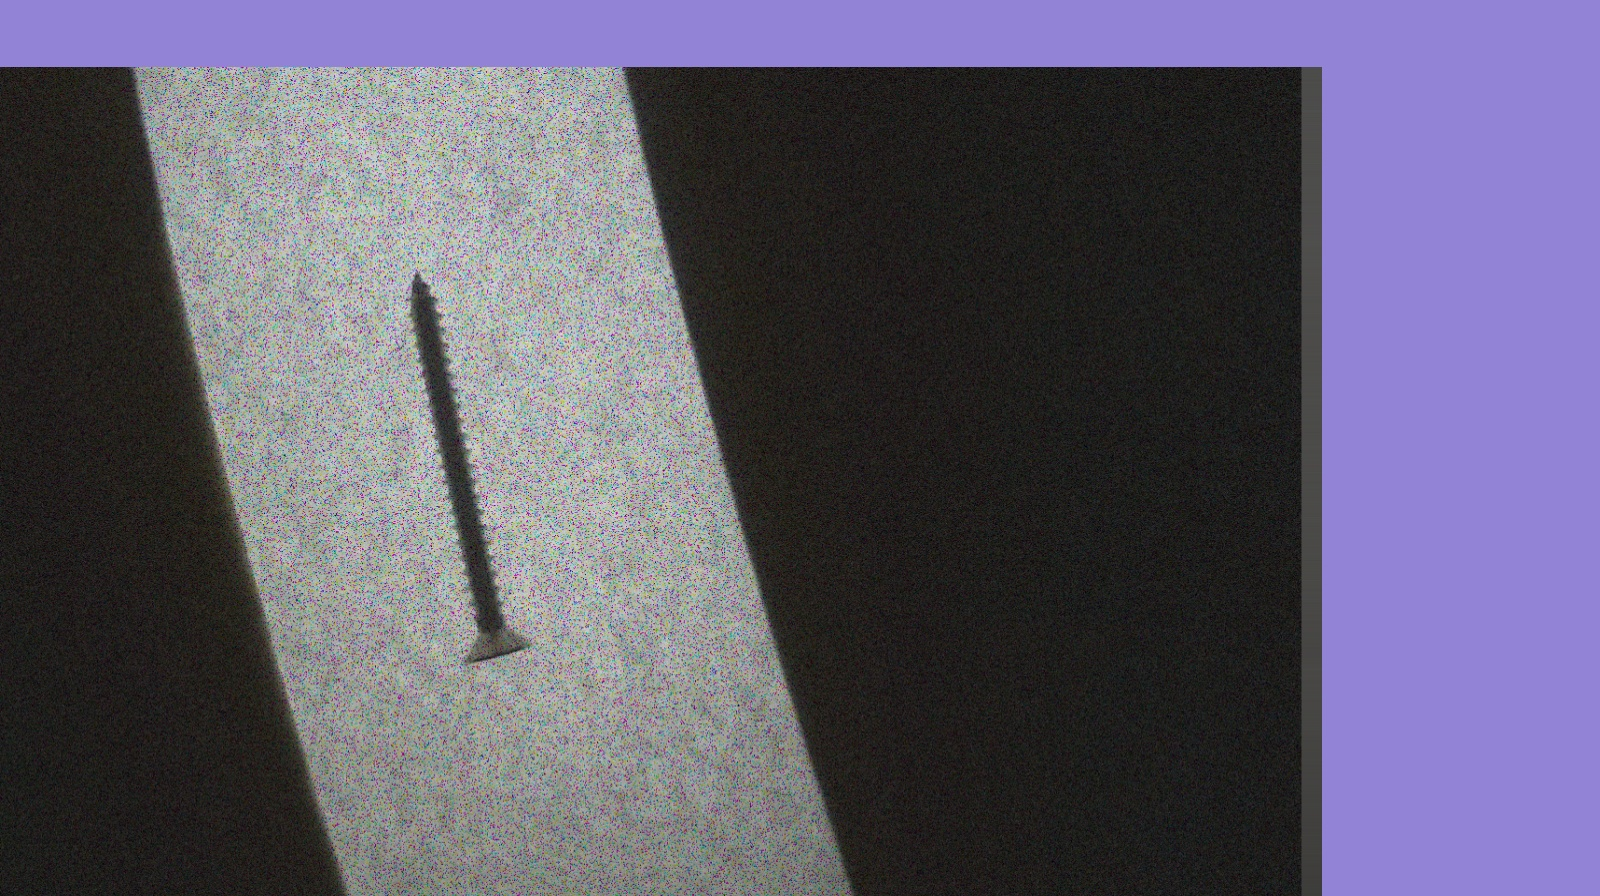S002: (384, 259, 549, 671)
